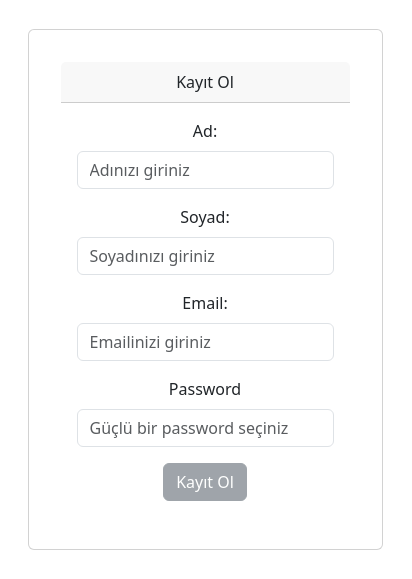
Test: Register Page › Error Messages › surname input throws errors for 1 input chars
Type "ö" into the field with test id "soyad-input" at (206,256), box [77,237,334,275]
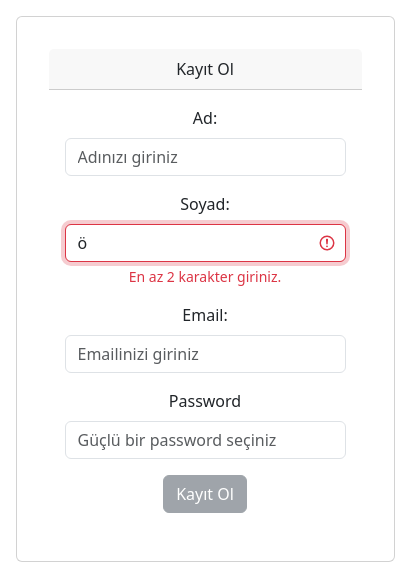
Now the text "En az 2 karakter giriniz." is shown, box [129,267,281,286]
